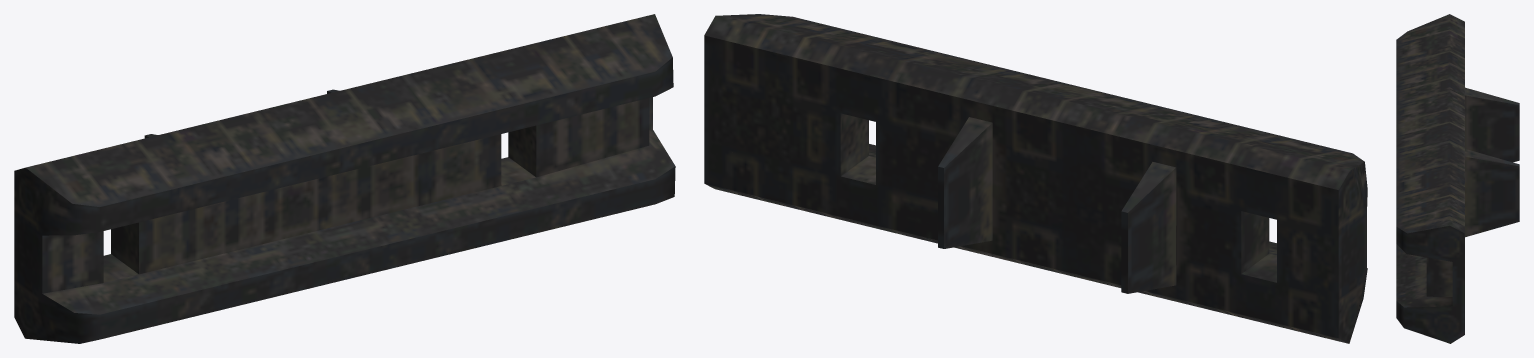
3 views of the same model, side by side, from view 1: azimuth 30°, elevation 25°; view 2: azimuth 150°, elevation 25°; view 3: azimuth 270°, elevation 25° (orthographic). The views are drawn at different scales.
Visible parts, largest first — view 1: set_0_group_0; view 2: set_0_group_0; view 3: set_0_group_0.
Part boxes in pixels (x1=…): set_0_group_0: x1=14, y1=14, x2=675, y2=343; set_0_group_0: x1=704, y1=14, x2=1367, y2=343; set_0_group_0: x1=1396, y1=14, x2=1519, y2=343.
Size of the model in its own units: 0.8 by 0.2083 by 0.1966.
1 material, 1 textured.
